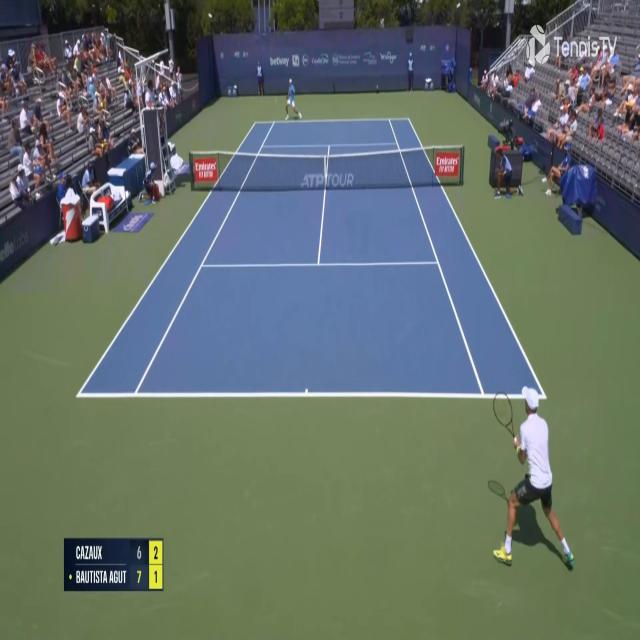tennis-player: (487, 386, 579, 571), (282, 76, 304, 122)
